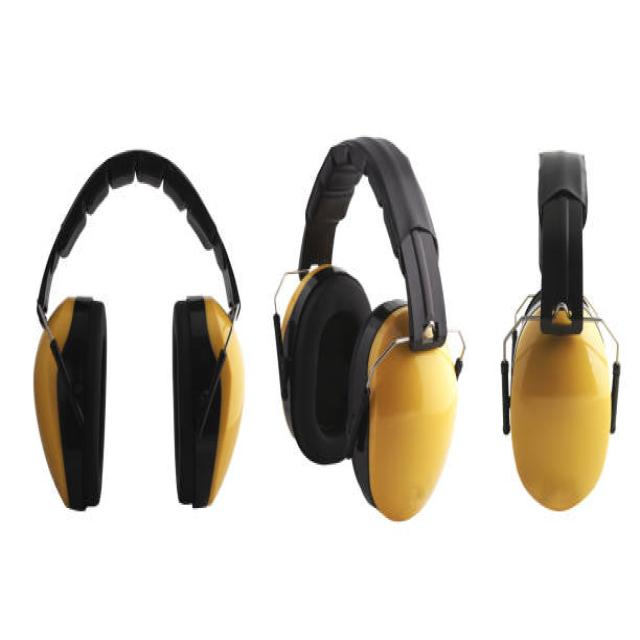Ear-protection: (259, 103, 468, 543), (23, 143, 252, 528), (487, 119, 638, 544)
